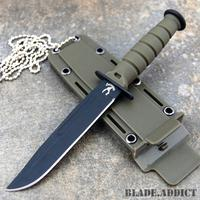knife: (3, 39, 178, 194)
